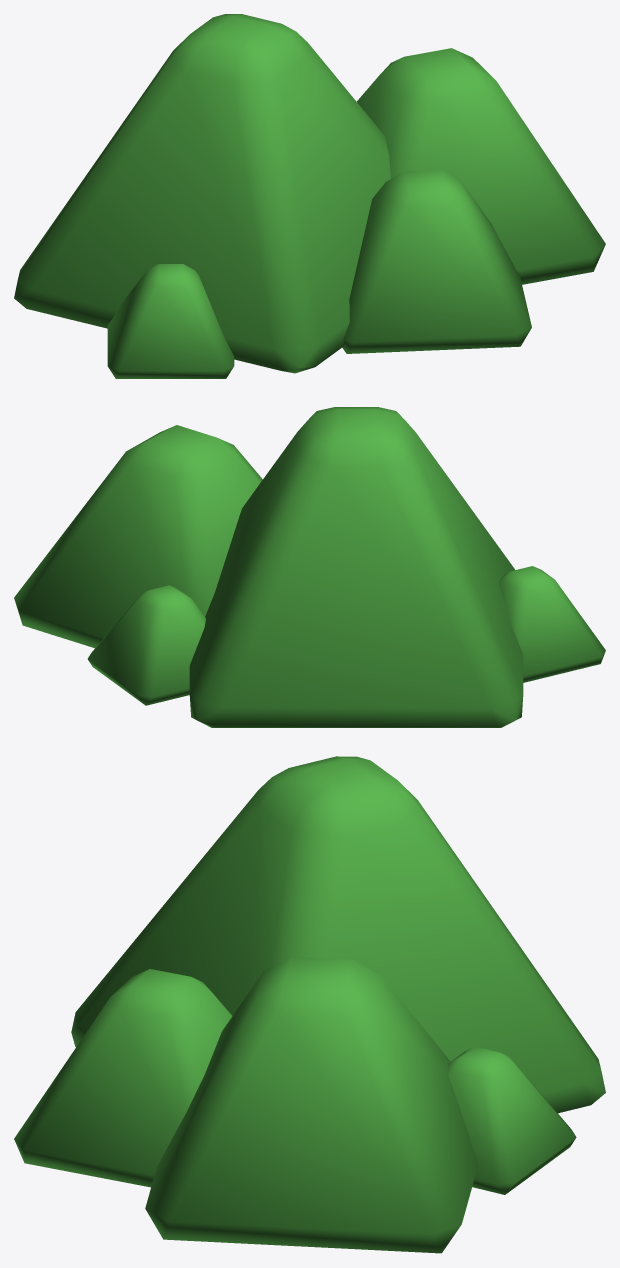
File: plant_bush_4.glb
The picture shows the model from 3 angles, top to bottom: view 1: azimuth 30°, elevation 25°; view 2: azimuth 150°, elevation 25°; view 3: azimuth 270°, elevation 25°; orthographic projection. The views are drawn at different scales.
Visible parts, largest first — view 1: plant_bush_4; view 2: plant_bush_4; view 3: plant_bush_4.
Boxes of the visible parts, left/top/right/bottom form: plant_bush_4: left=14, top=14, right=605, bottom=378; plant_bush_4: left=14, top=407, right=605, bottom=727; plant_bush_4: left=14, top=756, right=605, bottom=1253.
Bounding box in the file's own units: 2.2 × 1.06 × 1.86.
